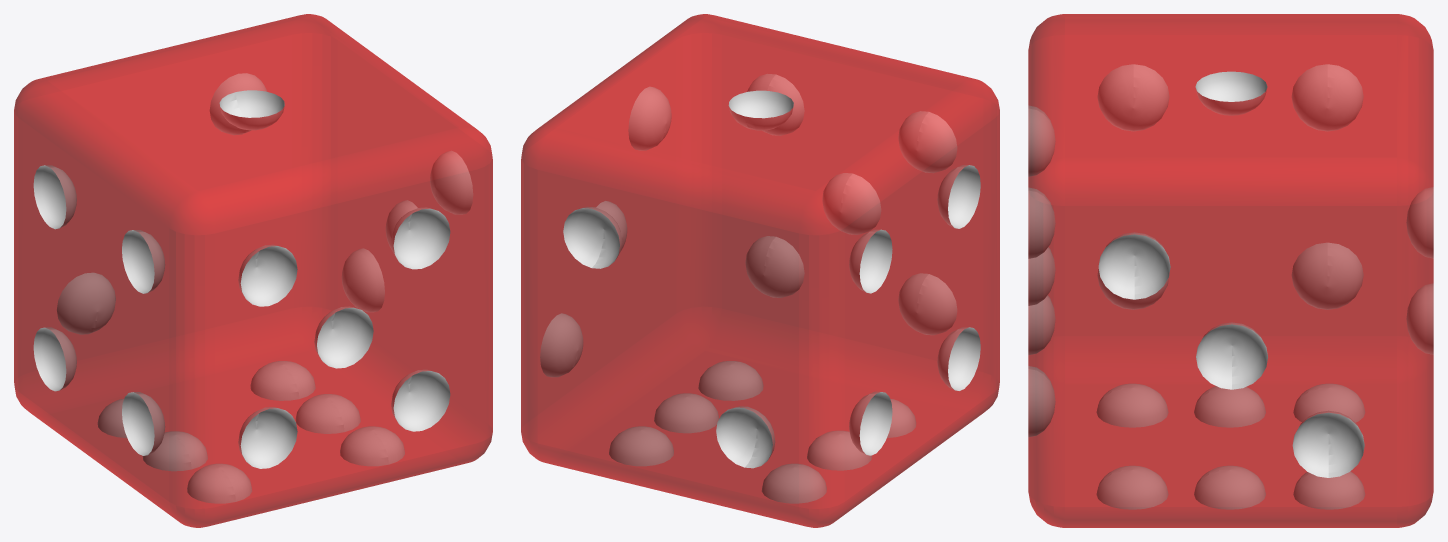
Rendered from d6_pipped_square.fbx.
3 views of the same model, side by side, from view 1: azimuth 30°, elevation 25°; view 2: azimuth 150°, elevation 25°; view 3: azimuth 270°, elevation 25° (orthographic). The views are drawn at different scales.
Parts seen in each view (by area): view 1: export.002; view 2: export.002; view 3: export.002.
Boxes of the visible parts, <box> form: export.002: <box>14,14,492,527</box>; export.002: <box>521,14,999,527</box>; export.002: <box>1028,14,1433,527</box>.
Bounding box in the file's own units: 0.0417 × 0.0417 × 0.0417.
